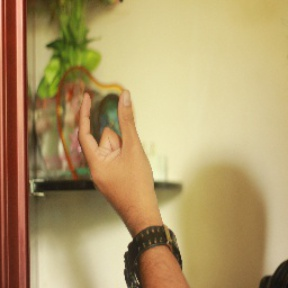U: (72, 84, 159, 219)
